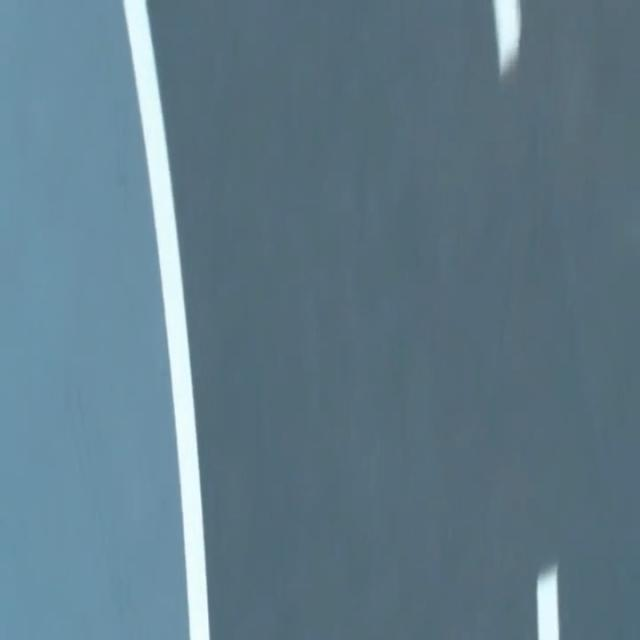center: (492, 0, 521, 76), (537, 565, 559, 639)
left: (123, 0, 209, 639)
